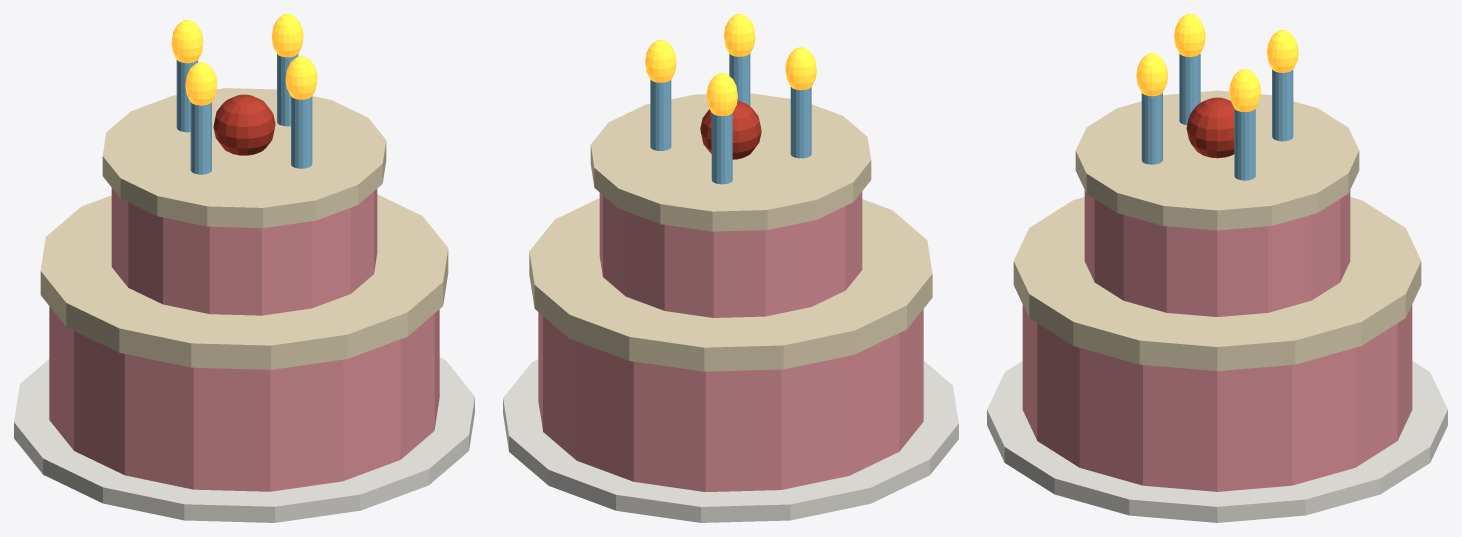
The model's file is cake-lod0.glb.
3 renders of one model, left to right at view 1: azimuth 30°, elevation 25°; view 2: azimuth 150°, elevation 25°; view 3: azimuth 270°, elevation 25°, orthographic.
Visible parts, largest first — view 1: cake; view 2: cake; view 3: cake.
Part boxes in pixels (x1,y1,x2,y2): cake: [14, 14, 474, 522]; cake: [503, 14, 958, 522]; cake: [987, 14, 1447, 522].
Bounding box in the file's own units: 0.52 × 0.477 × 0.52.
